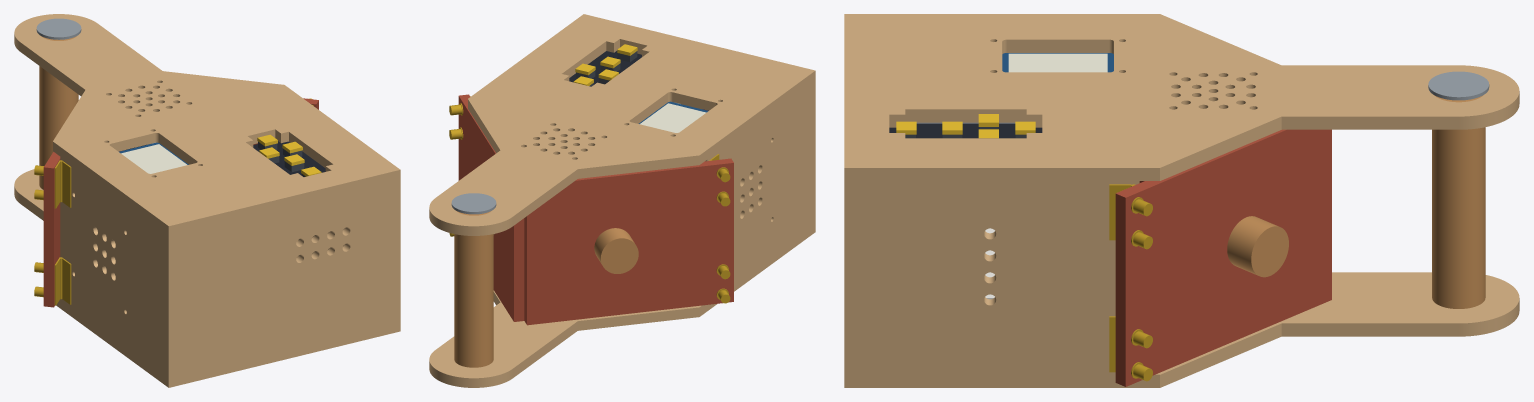
The model's file is house_assembled-BNa_Kb9j.glb.
The picture shows the model from 3 angles, left to right: view 1: azimuth 30°, elevation 25°; view 2: azimuth 150°, elevation 25°; view 3: azimuth 270°, elevation 25°; orthographic projection. The views are drawn at different scales.
Parts seen in each view (by area): view 1: house_assembled_mesh (×9); view 2: house_assembled_mesh (×9); view 3: house_assembled_mesh (×8).
Part boxes in pixels (x1=…): house_assembled_mesh (×9): x1=14, y1=14, x2=400, y2=387; house_assembled_mesh (×9): x1=429, y1=14, x2=815, y2=387; house_assembled_mesh (×8): x1=844, y1=14, x2=1519, y2=387.
Size of the model in its own units: 0.1821 by 0.106 by 0.278.
